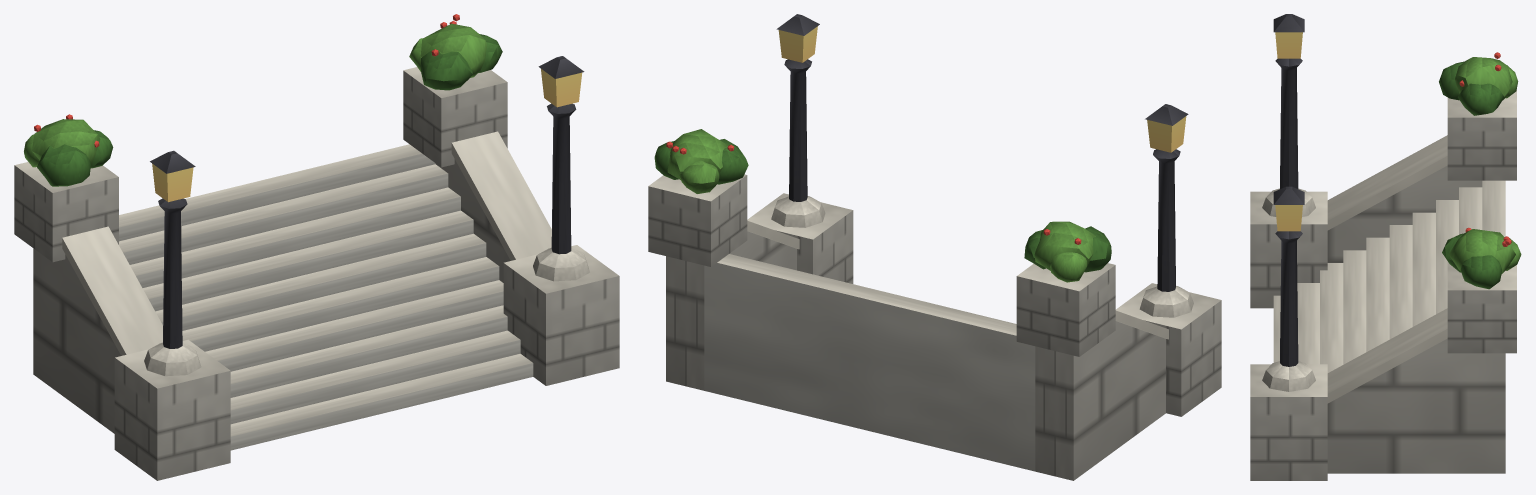
The model's file is stairs_grand_01.glb.
3 views of the same model, side by side, from view 1: azimuth 30°, elevation 25°; view 2: azimuth 150°, elevation 25°; view 3: azimuth 270°, elevation 25° (orthographic). The views are drawn at different scales.
Visible parts, largest first — view 1: stairs_grand_01; view 2: stairs_grand_01; view 3: stairs_grand_01.
Part boxes in pixels (bbox=[...]): stairs_grand_01: bbox=[14, 14, 619, 480]; stairs_grand_01: bbox=[648, 14, 1221, 480]; stairs_grand_01: bbox=[1250, 14, 1521, 480].
Size of the model in its own units: 6.38 by 3.95 by 3.51.
1 material, 1 textured.
